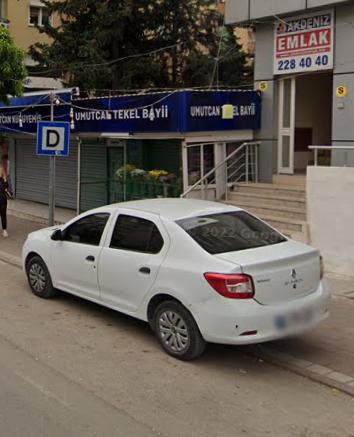station: (39, 123, 67, 153)
